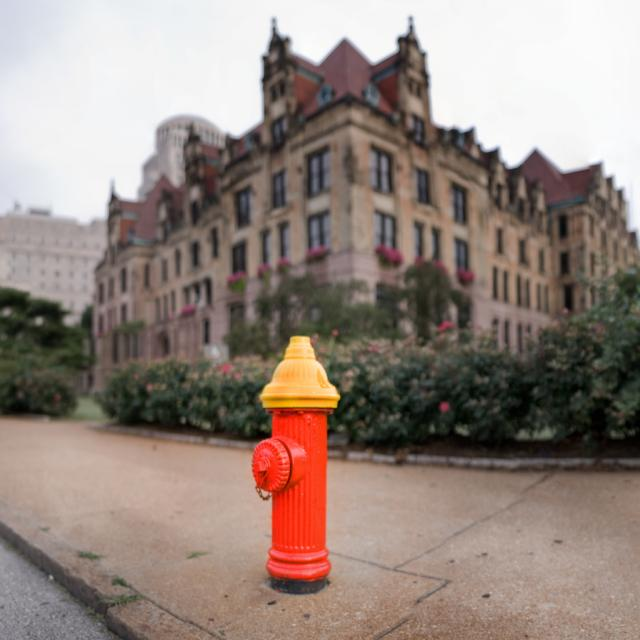fire_hydrant: (252, 332, 340, 590)
